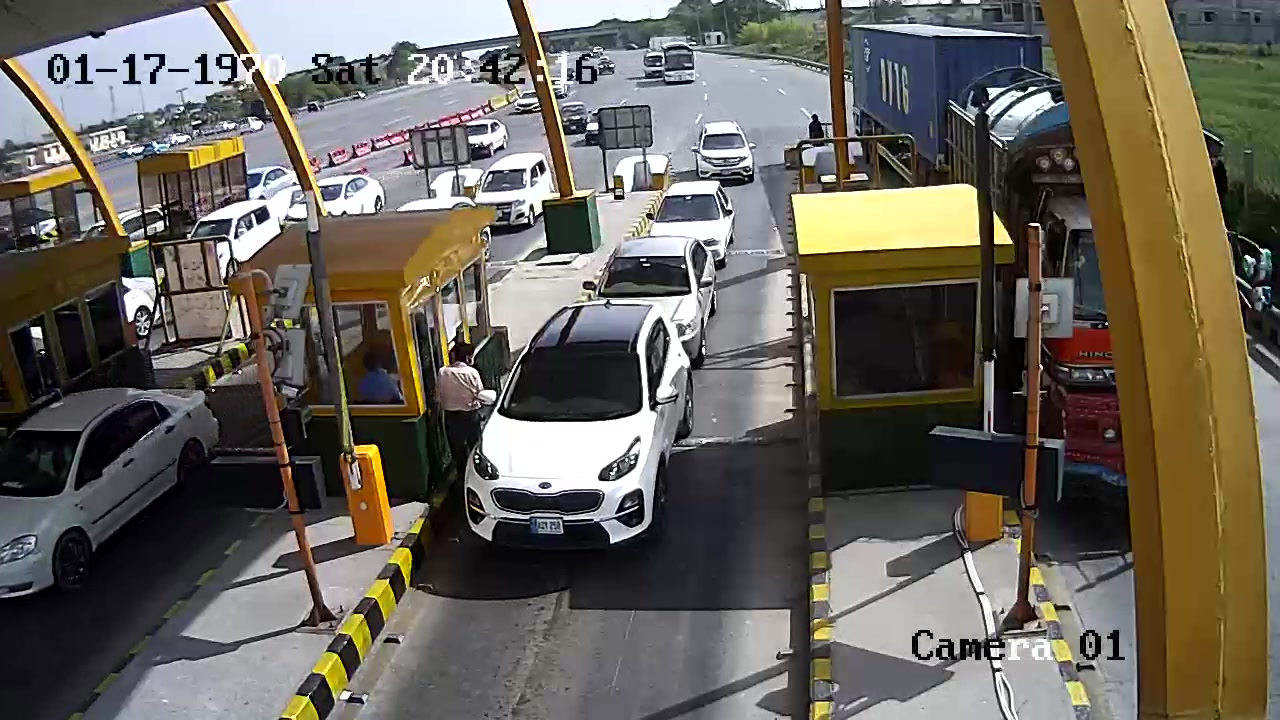F1: (477, 296, 703, 572)
